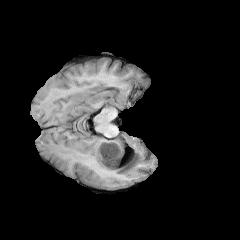glioma: (94, 137, 143, 174)
